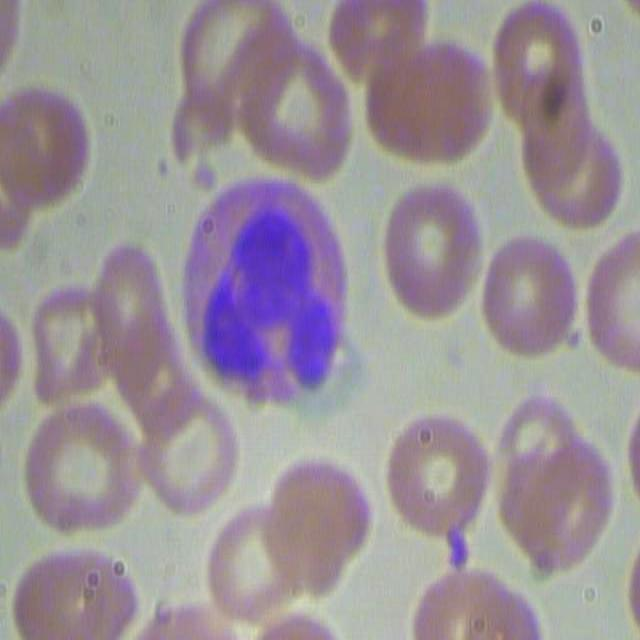RBC: (338, 0, 486, 165), (490, 386, 612, 580), (228, 39, 358, 185), (125, 359, 236, 524), (23, 401, 144, 538), (262, 446, 370, 599), (376, 170, 481, 320), (517, 93, 624, 231), (383, 409, 493, 540), (476, 230, 580, 361), (10, 538, 143, 638), (200, 510, 304, 632), (173, 1, 284, 114), (488, 0, 588, 122), (0, 82, 88, 212), (96, 247, 176, 385), (25, 284, 111, 408), (412, 567, 543, 640), (586, 225, 640, 370)
WBC: (177, 172, 352, 402)
